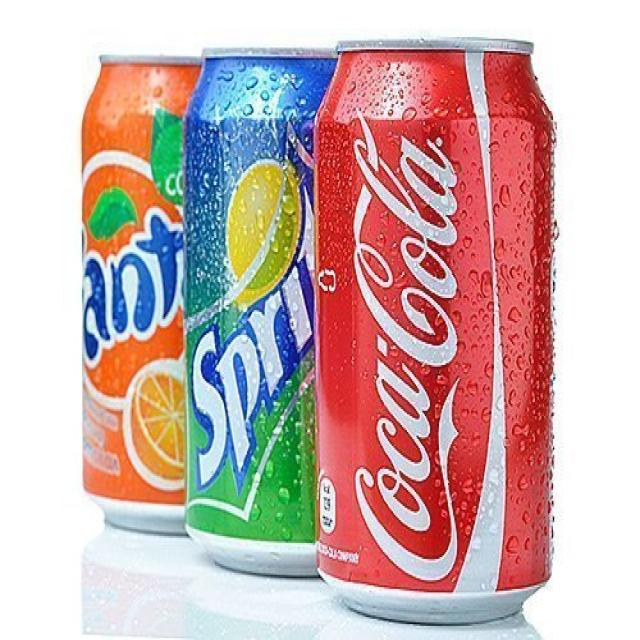Cans: (306, 27, 566, 631)
